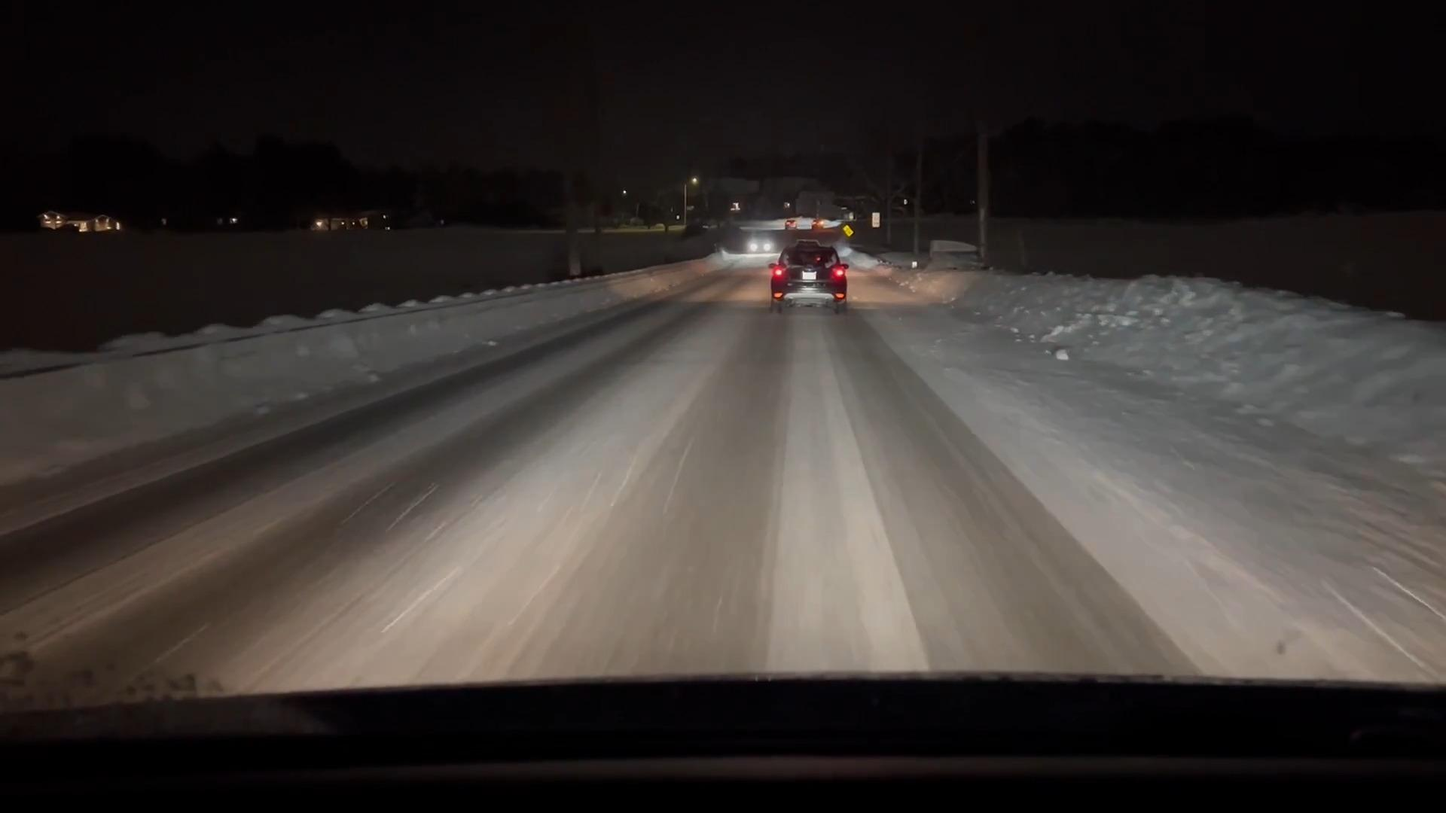Snow: (0, 255, 1446, 695)
